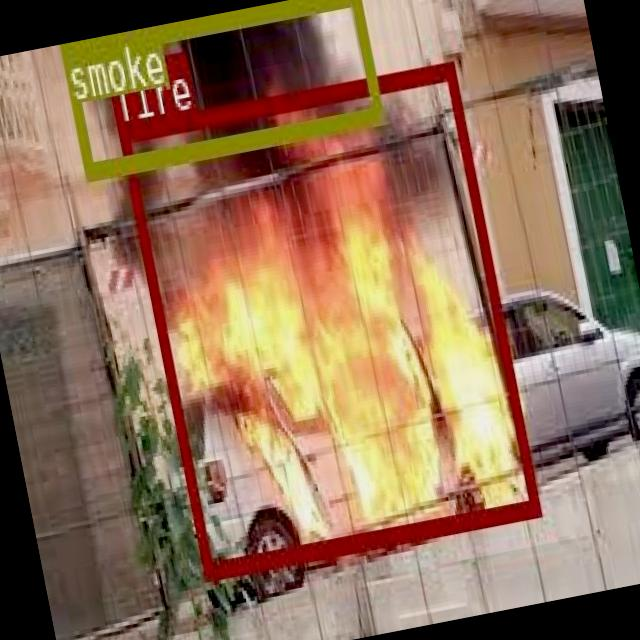fire: (116, 59, 539, 579)
smoke: (57, 0, 382, 175)
